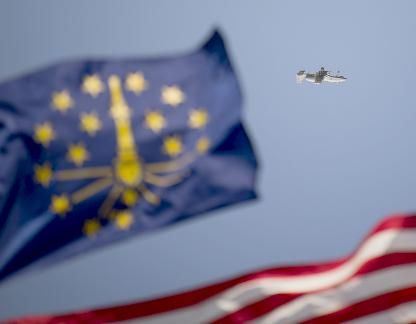A10: (297, 68, 348, 84)
